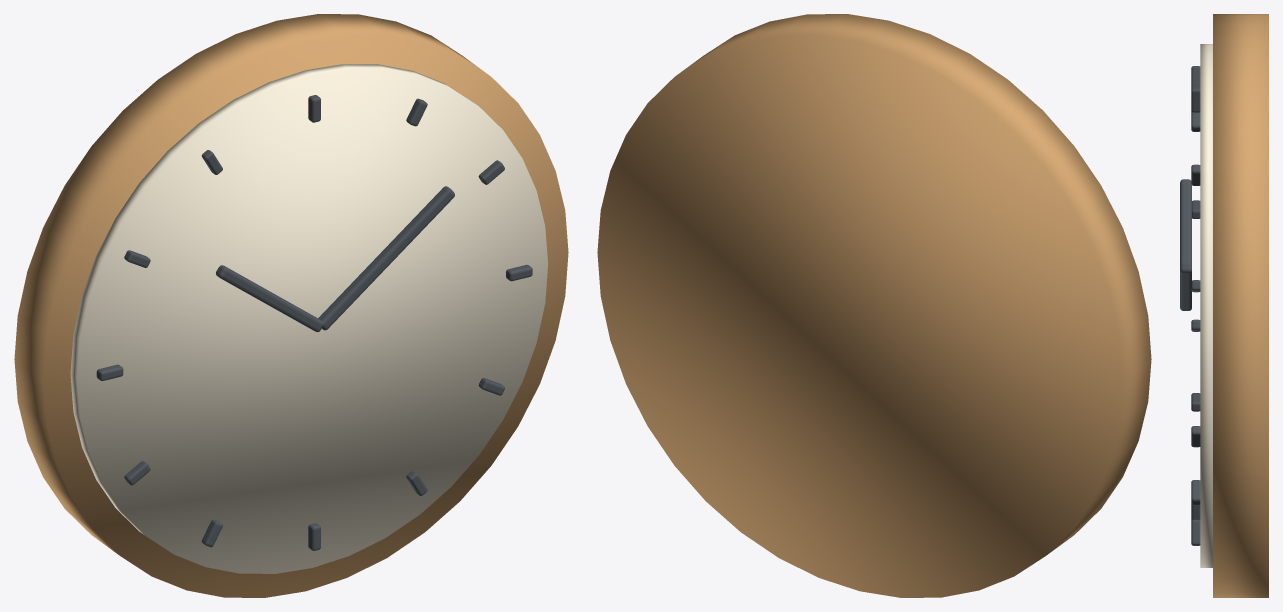
File: wall-clock.glb
The picture shows the model from 3 angles, left to right: view 1: azimuth 30°, elevation 25°; view 2: azimuth 150°, elevation 25°; view 3: azimuth 270°, elevation 25°; orthographic projection. The views are drawn at different scales.
Parts seen in each view (by area): view 1: wall_clock; view 2: wall_clock; view 3: wall_clock.
Part boxes in pixels (x1,y1,x2,y2): wall_clock: [14, 14, 568, 597]; wall_clock: [597, 14, 1151, 597]; wall_clock: [1180, 14, 1268, 597].
Size of the model in its own units: 0.68 by 0.68 by 0.1035.
